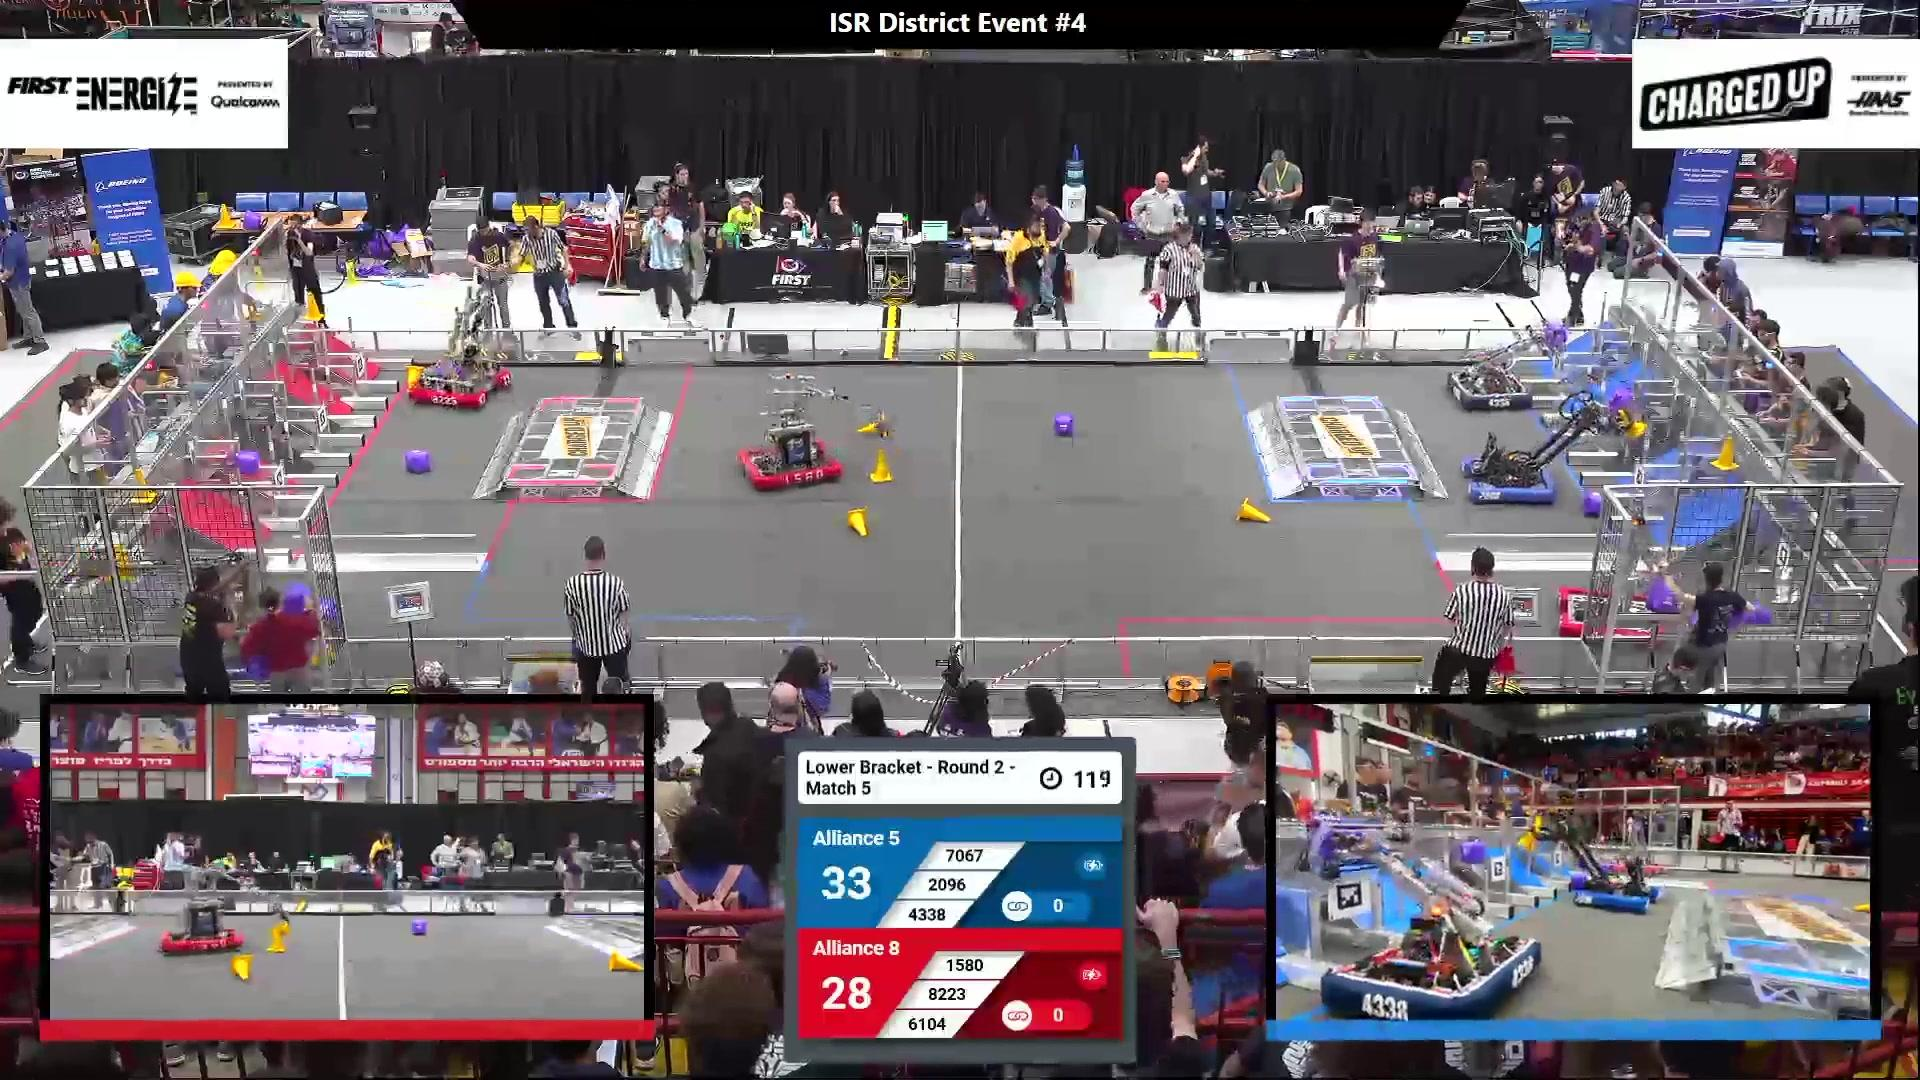robot: (1291, 818, 1543, 1018), (111, 510, 277, 679), (1466, 394, 1644, 502), (740, 368, 887, 491), (1560, 510, 1669, 641), (409, 278, 510, 411), (1523, 820, 1663, 911), (158, 861, 286, 959), (1448, 319, 1567, 411), (1447, 345, 1532, 410), (1610, 815, 1662, 877)
